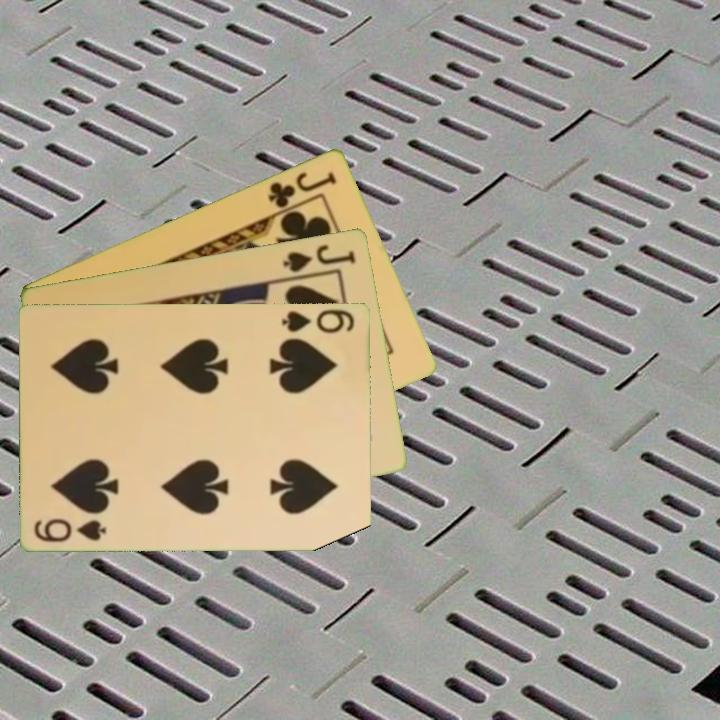6s: (278, 306, 357, 336), (31, 515, 109, 545)
Jc: (264, 167, 340, 211)
Js: (280, 240, 359, 275)
